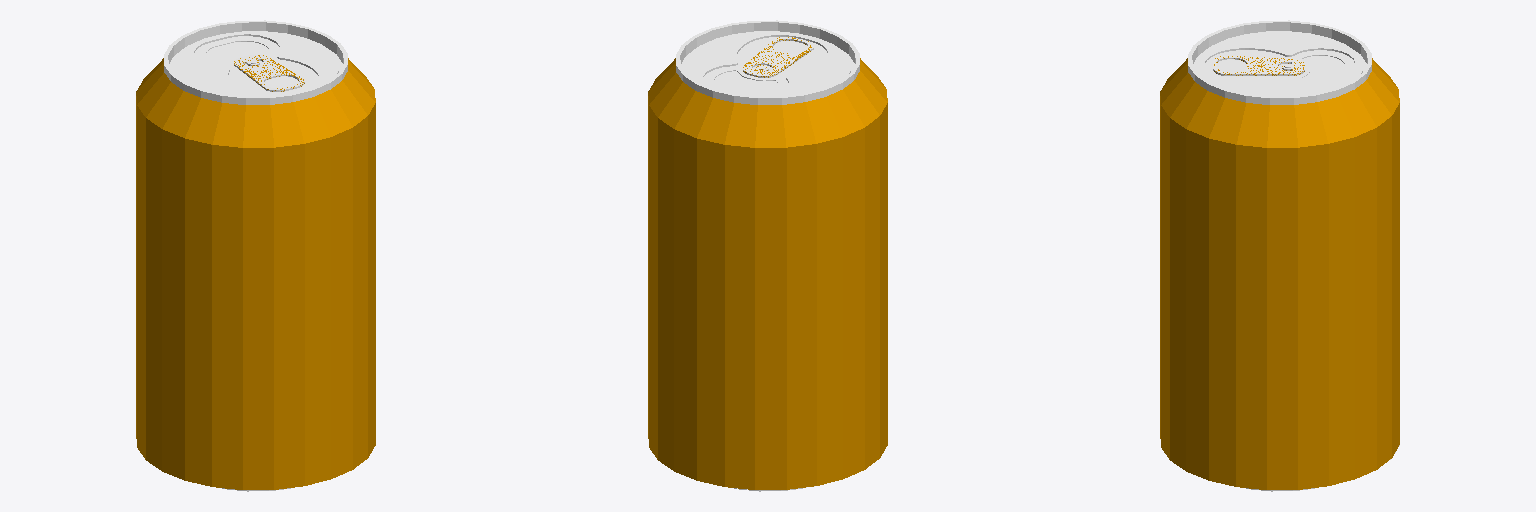
The robot description file, URDF, robot "can":
<?xml version="1.0"?>

<robot name="can">
	<link name="base">
		<inertial>
			<origin xyz="0 0 0" rpy="0 0 0"/>
			<mass value="0.05"/>
			<inertia ixx="0.000683333"  ixy="0"  ixz="0" iyy="0.000683333" iyz="0" izz="0.000683333" />
       	</inertial>
		<visual>
			<origin xyz="0.0 0.0 -0.00255" rpy="0 0 0" />
			<!--origin xyz="0.0 0.0 0.055" rpy="0 0 0" /-->
			<geometry>
				<mesh filename="cokecan.dae" scale="0.0254 0.0254 0.0254"/>
				<!--cylinder length="0.11" radius="0.035"/-->
      		</geometry>
		</visual>
  	 	<collision>
			<origin xyz="0.0 0.0 -0.00255" rpy="0 0 0"/>
			<!-- <origin xyz="0.0 0.0 0.059" rpy="0 0 0"/> -->
            <geometry>
       			<mesh filename="cokecan.stl"  scale="0.0254 0.0254 0.0254"/>
				<!-- <cylinder length="0.11" radius="0.030"/> -->
            </geometry>
        </collision>
	</link>
</robot>

--- What the picture shows (computed from the rendered views, not written in the file) ---
3 views of the same robot in one strip: view 1: azimuth 30°, elevation 25°; view 2: azimuth 150°, elevation 25°; view 3: azimuth 270°, elevation 25° (orthographic).
Model can with 1 links and 0 joints (none), rooted at base, posed every joint at zero.
Visible links, largest first — view 1: base; view 2: base; view 3: base.
Boxes of the visible links, x1,y1,x2,y2 form: base: (136,20,375,491); base: (648,20,887,491); base: (1160,20,1399,491).
Size in the robot's own frame: 0.0018 by 0.0018 by 0.0033 metres.
1 mesh visuals loaded from 1 distinct referenced files (1 Collada DAE).
